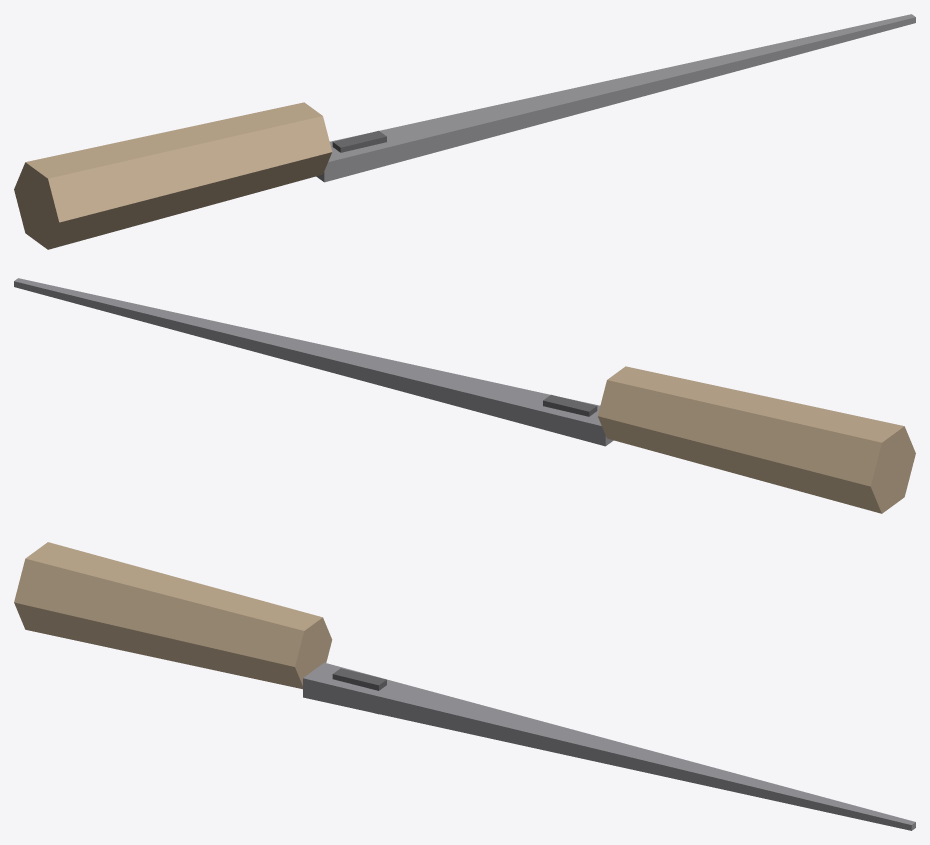
Rendered from prop-needle-mat-mt1.fbx.
The picture shows the model from 3 angles, top to bottom: view 1: azimuth 30°, elevation 25°; view 2: azimuth 150°, elevation 25°; view 3: azimuth 330°, elevation 25°; orthographic projection.
Visible parts, largest first — view 1: prop-needle-mat-mt1; view 2: prop-needle-mat-mt1; view 3: prop-needle-mat-mt1.
Boxes of the visible parts, x1,y1,x2,y2 form: prop-needle-mat-mt1: (14,14,915,249); prop-needle-mat-mt1: (14,278,915,513); prop-needle-mat-mt1: (14,542,915,830).
Bounding box in the file's own units: 38 × 3.17 × 3.4.
